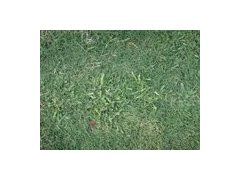crabgrass: (83, 74, 154, 118)
